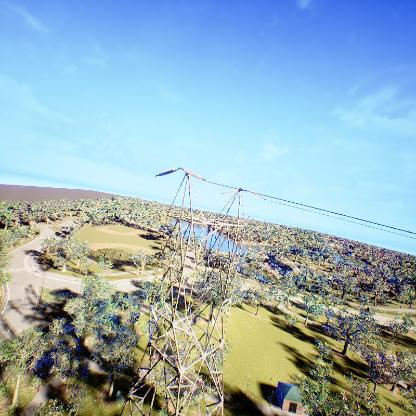tower: (117, 166, 266, 416)
